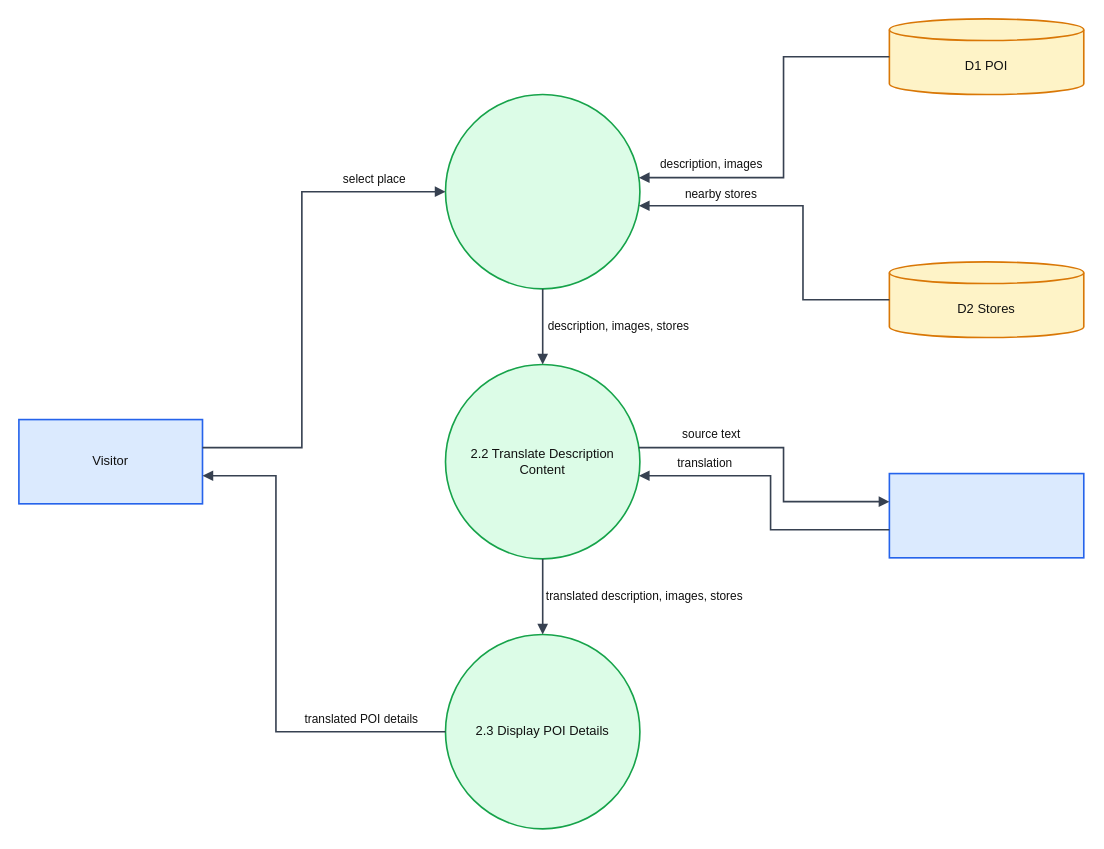
The diagram is 1104 pixels wide and 849 high, and some of its shapes have lost their labels. Here are the shapes that lost their labels. From the top down, the box of each, then its label:
(444, 93, 640, 289): 2.1 Retrieve Place Information
(888, 472, 1084, 558): Google Gemini
